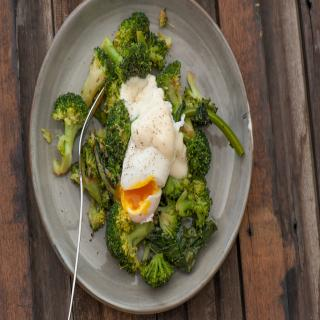Broccoli: (70, 96, 212, 286), (50, 94, 89, 180), (158, 60, 194, 137), (120, 28, 167, 81), (81, 48, 117, 108), (114, 11, 154, 56)
